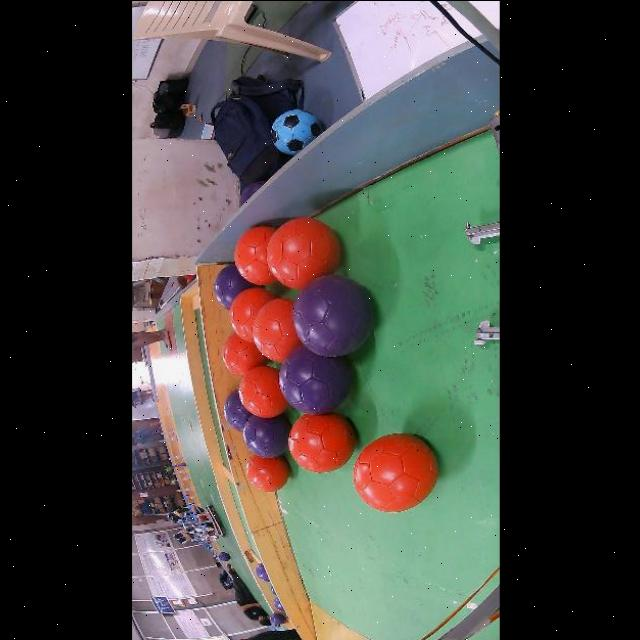P: (293, 275, 374, 356), (279, 345, 352, 414), (214, 263, 261, 309), (243, 414, 292, 457), (224, 390, 252, 430), (239, 180, 265, 205), (255, 562, 270, 581), (269, 612, 288, 626), (274, 597, 285, 611), (218, 551, 231, 561)
R: (353, 433, 438, 511), (266, 216, 340, 289), (289, 411, 356, 471), (252, 298, 302, 361), (229, 286, 277, 341), (238, 365, 289, 416), (234, 225, 277, 285), (223, 332, 269, 375), (246, 453, 289, 490)
